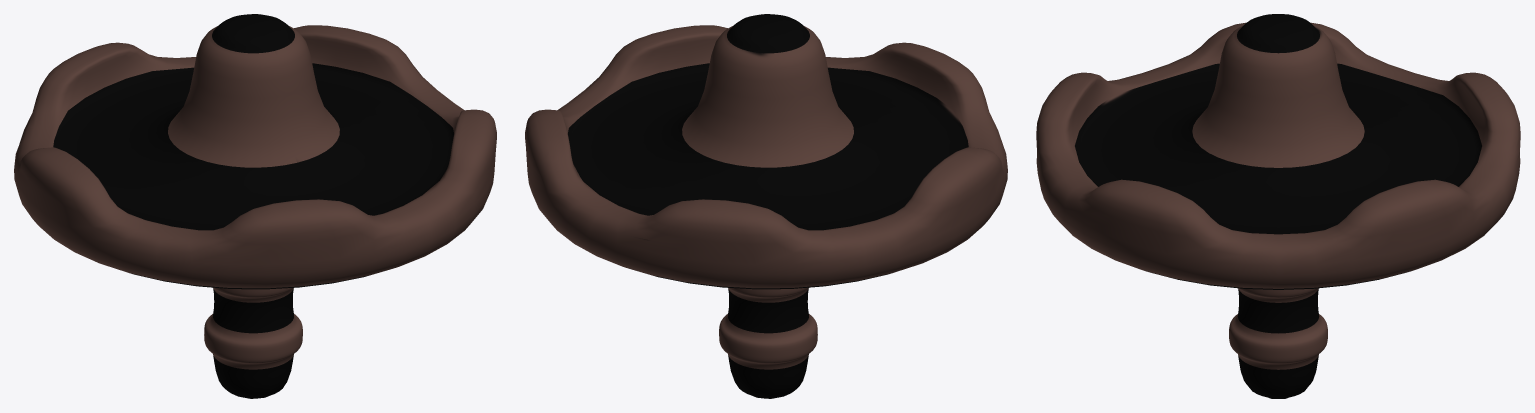
Rendered from Tower.fbx.
3 renders of one model, left to right at view 1: azimuth 30°, elevation 25°; view 2: azimuth 150°, elevation 25°; view 3: azimuth 270°, elevation 25°, orthographic.
Parts seen in each view (by area): view 1: Cylinder; view 2: Cylinder; view 3: Cylinder.
Part boxes in pixels (bbox=[...]): Cylinder: bbox=[14, 14, 496, 398]; Cylinder: bbox=[525, 14, 1007, 398]; Cylinder: bbox=[1036, 14, 1520, 398].
Bounding box in the file's own units: 1878 × 1588 × 1883.
Materials: 1 (1 with a texture image).
